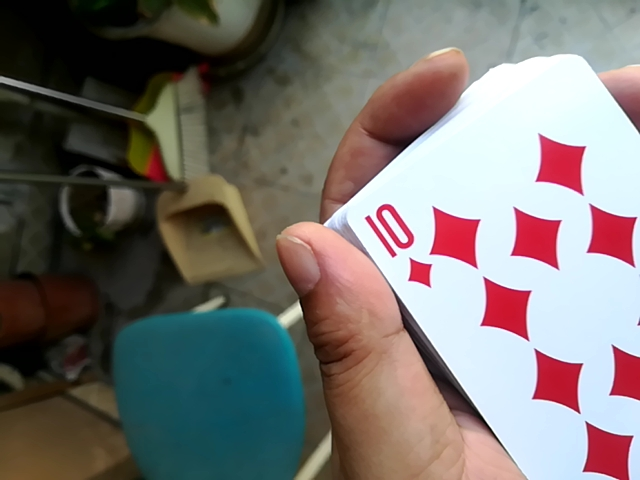fk 10: (325, 42, 640, 480)
